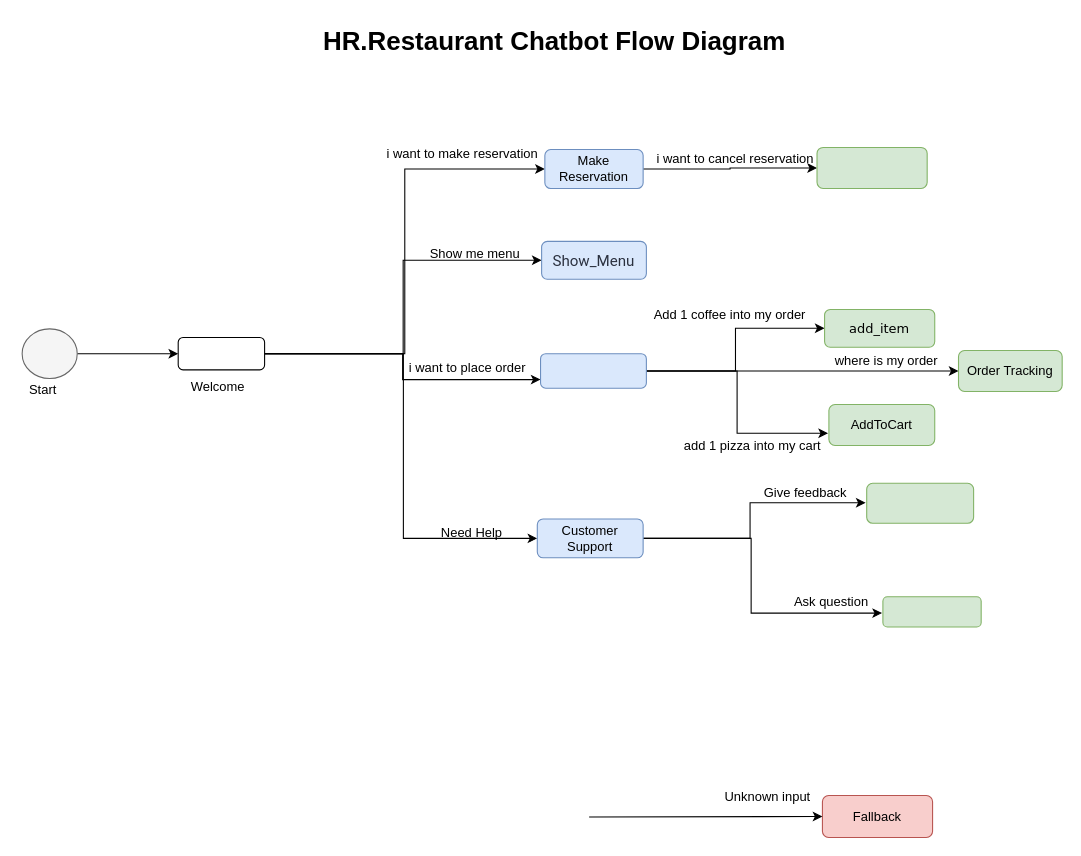
This 1081x856 diagram has some shape labels left out. The shapes that lost their labels are listed below. From the top down, each one's centre as x and y in pixels, then its label:
At point 871,167: "Cancel Reservation".
At point 592,370: "Place-Order".
At point 920,502: "Feedback".
At point 931,611: "FAQs".
